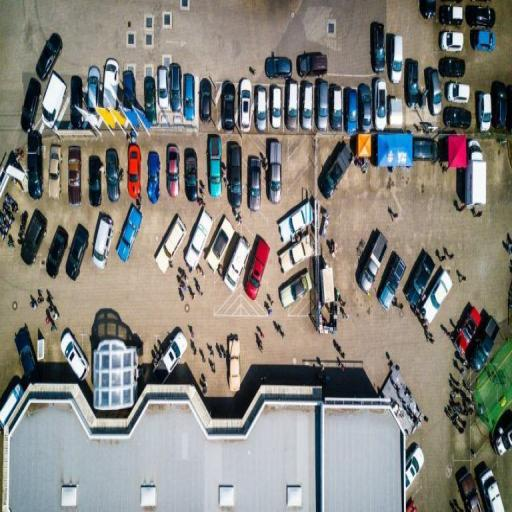Illegal-parking: (223, 318, 250, 424), (150, 216, 188, 289), (91, 206, 114, 294)
